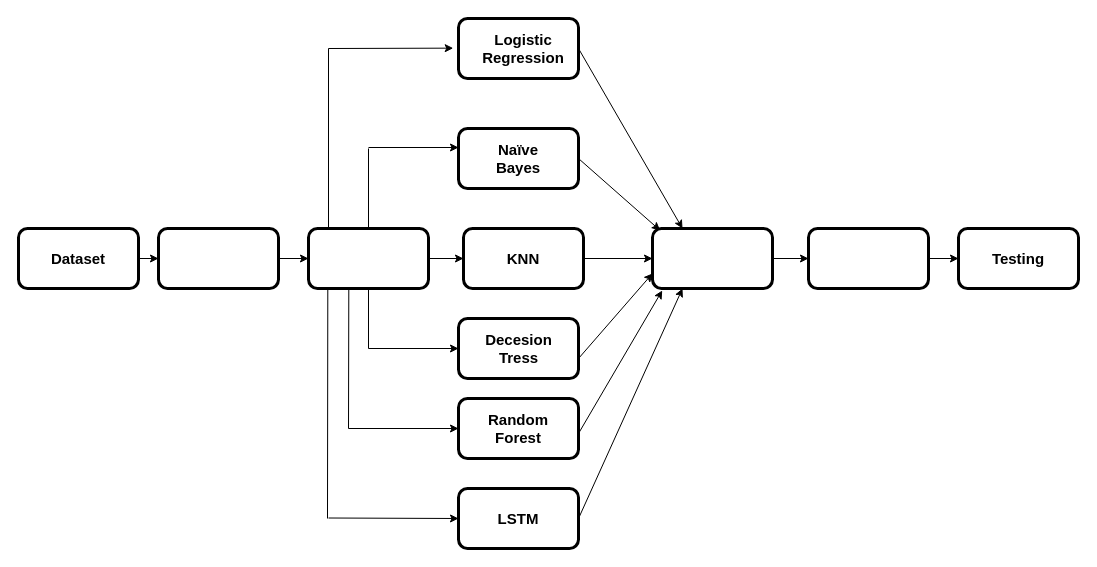
Some shapes in this 1097 by 567 pixel diagram are drawn without their labels. Each missing label, with the centre of its shape:
Applying ML/DL methods: the point at 368,258
Five Fold Cross Validation: the point at 868,258
Preprocessing: the point at 218,258
Training: the point at 712,258
